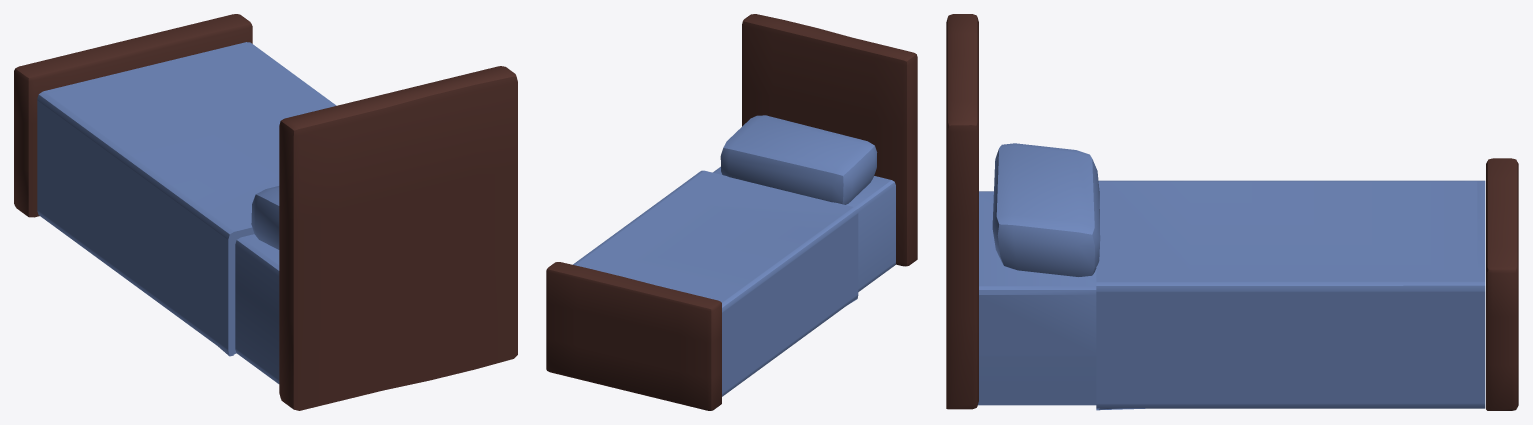
File: camade.fbx
The picture shows the model from 3 angles, left to right: view 1: azimuth 30°, elevation 25°; view 2: azimuth 150°, elevation 25°; view 3: azimuth 270°, elevation 25°; orthographic projection. The views are drawn at different scales.
Visible parts, largest first — view 1: Cama; view 2: Cama; view 3: Cama.
Boxes of the visible parts, x1,y1,x2,y2 form: Cama: (14,14,517,410); Cama: (546,14,917,410); Cama: (946,14,1518,410).
Size of the model in its own units: 2.43 by 2.91 by 5.2.
